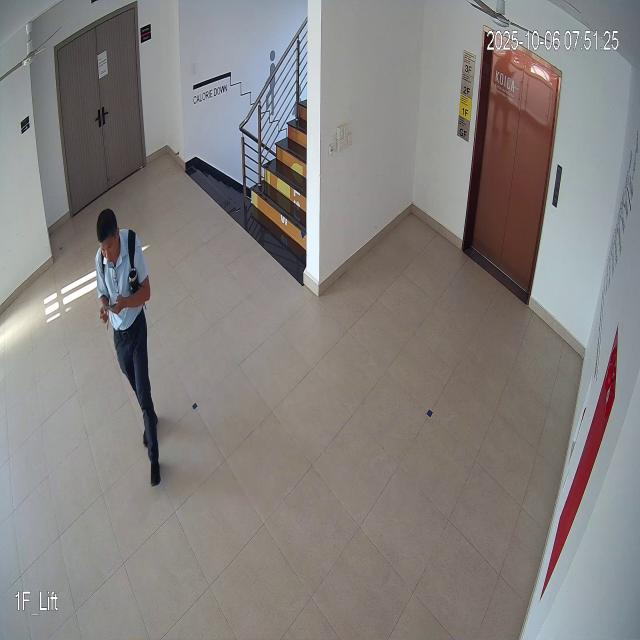face: (92, 205, 126, 266)
